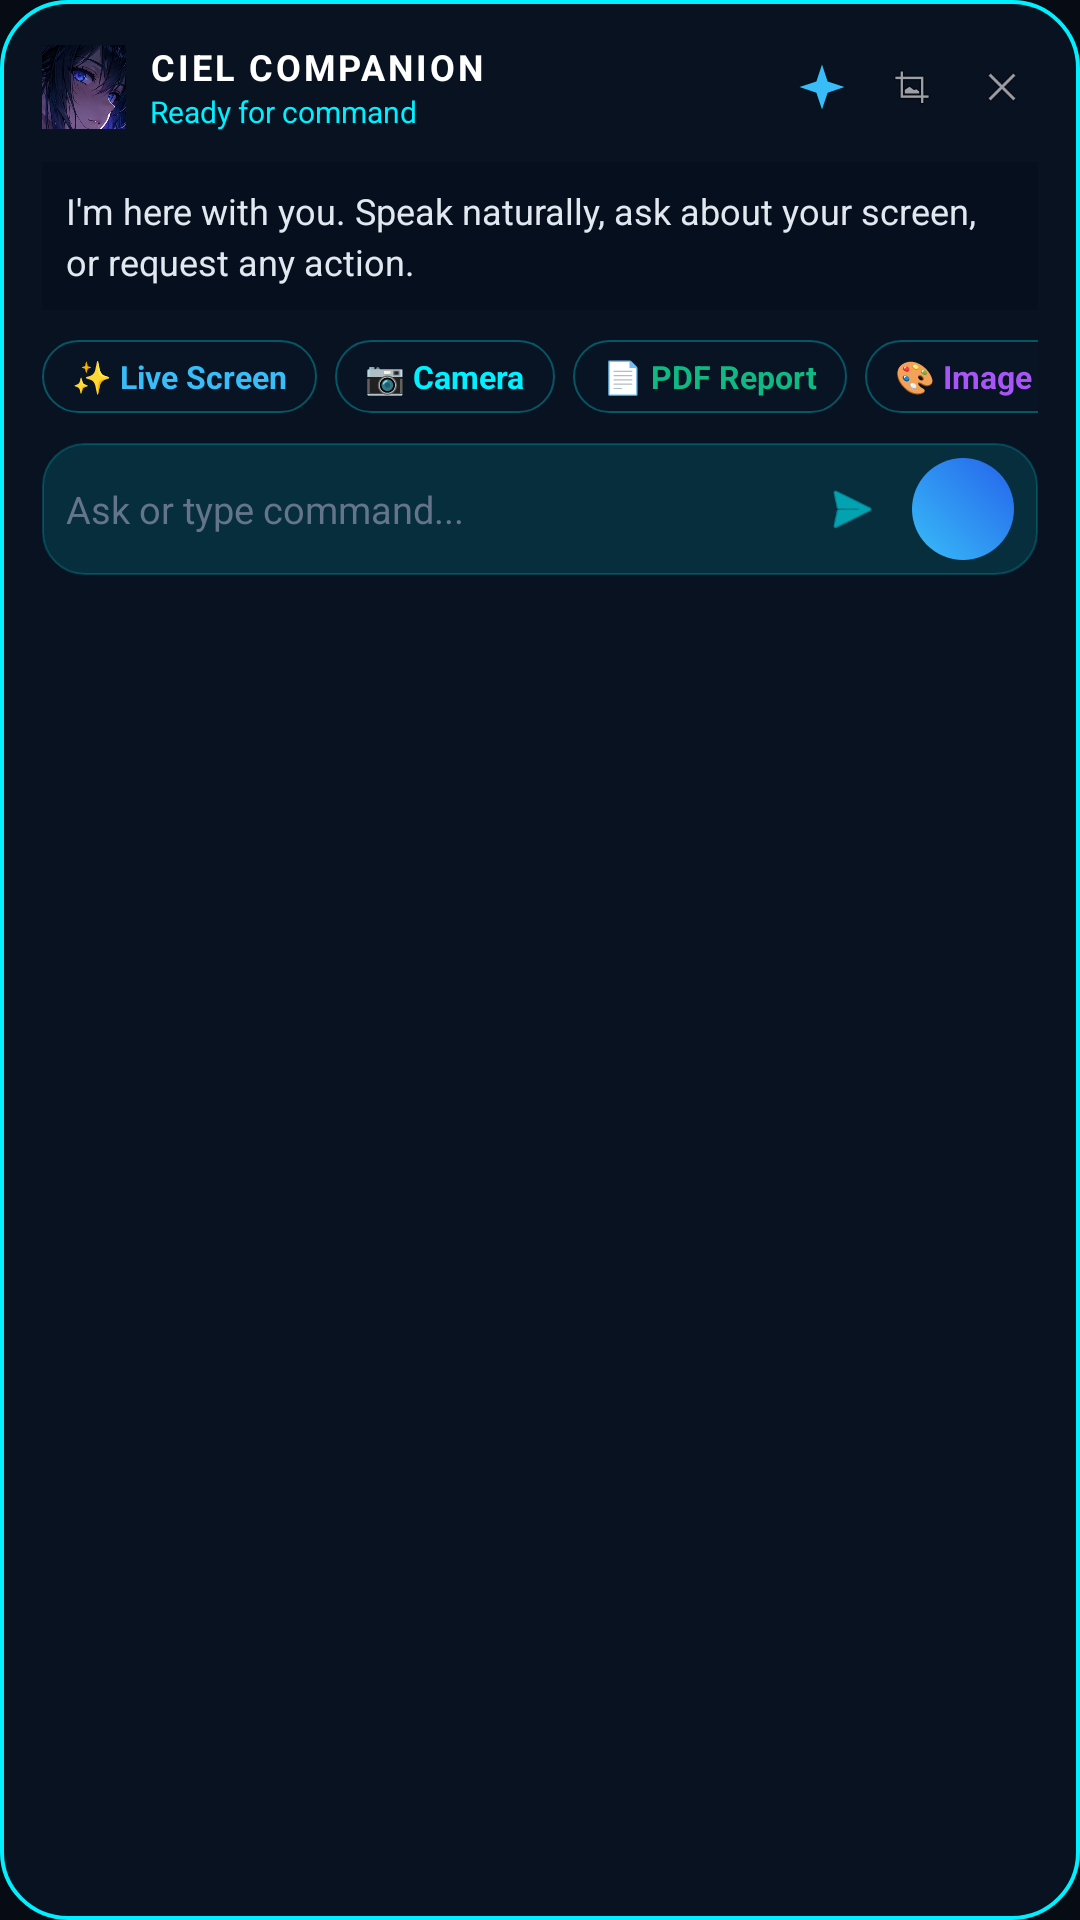

Where to tap for icons on this 1080 x 1920 app screen, as (x,y):
Close: (1002,87)
Send: (852,509)
